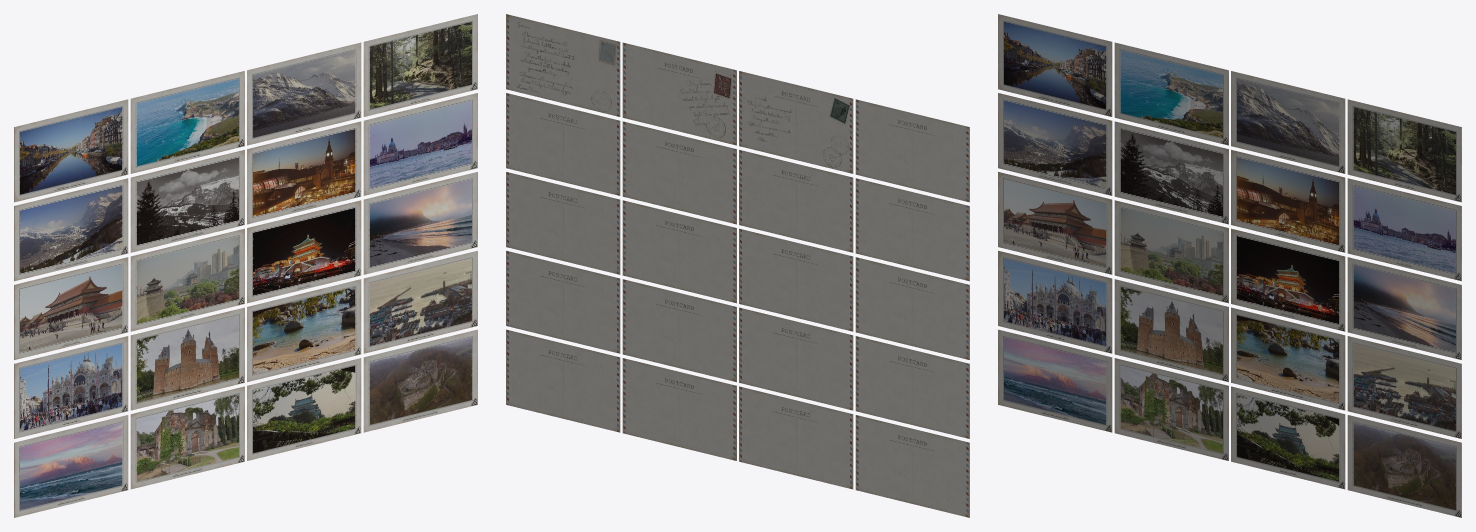
The model's file is postcard_set_01.glb.
The picture shows the model from 3 angles, left to right: view 1: azimuth 30°, elevation 25°; view 2: azimuth 150°, elevation 25°; view 3: azimuth 330°, elevation 25°; orthographic projection.
Visible parts, largest first — view 1: postcard_01, postcard_03, postcard_05, postcard_16, postcard_18, postcard_20, postcard_07, postcard_10, postcard_11, postcard_14, postcard_08, postcard_09 (+8 smaller); view 2: postcard_01, postcard_03, postcard_05, postcard_16, postcard_18, postcard_20, postcard_07, postcard_10, postcard_11, postcard_14, postcard_08, postcard_09 (+8 smaller); view 3: postcard_02, postcard_04, postcard_08, postcard_13, postcard_17, postcard_19, postcard_06, postcard_10, postcard_11, postcard_15, postcard_05, postcard_09 (+8 smaller).
Boxes of the visible parts, left/top/right/bottom form: postcard_01: left=14, top=99, right=128, bottom=202; postcard_03: left=247, top=42, right=361, bottom=145; postcard_05: left=14, top=178, right=128, bottom=281; postcard_16: left=363, top=250, right=477, bottom=353; postcard_18: left=130, top=386, right=244, bottom=489; postcard_20: left=363, top=329, right=477, bottom=432; postcard_07: left=247, top=121, right=361, bottom=224; postcard_10: left=130, top=228, right=244, bottom=331; postcard_11: left=247, top=200, right=361, bottom=303; postcard_14: left=130, top=307, right=244, bottom=410; postcard_08: left=363, top=93, right=477, bottom=195; postcard_09: left=14, top=257, right=128, bottom=359; postcard_01: left=855, top=99, right=969, bottom=202; postcard_03: left=622, top=42, right=736, bottom=145; postcard_05: left=855, top=178, right=969, bottom=281; postcard_16: left=506, top=250, right=620, bottom=353; postcard_18: left=739, top=386, right=853, bottom=489; postcard_20: left=506, top=329, right=620, bottom=432; postcard_07: left=622, top=121, right=736, bottom=224; postcard_10: left=739, top=228, right=853, bottom=331; postcard_11: left=622, top=200, right=736, bottom=303; postcard_14: left=739, top=307, right=853, bottom=410; postcard_08: left=506, top=93, right=620, bottom=195; postcard_09: left=855, top=257, right=969, bottom=359; postcard_02: left=1114, top=42, right=1228, bottom=145; postcard_04: left=1347, top=99, right=1461, bottom=202; postcard_08: left=1347, top=178, right=1461, bottom=281; postcard_13: left=998, top=250, right=1112, bottom=353; postcard_17: left=998, top=329, right=1112, bottom=432; postcard_19: left=1231, top=386, right=1345, bottom=489; postcard_06: left=1114, top=121, right=1228, bottom=224; postcard_10: left=1114, top=200, right=1228, bottom=303; postcard_11: left=1231, top=228, right=1345, bottom=331; postcard_15: left=1231, top=307, right=1345, bottom=410; postcard_05: left=998, top=93, right=1112, bottom=195; postcard_09: left=998, top=172, right=1112, bottom=274.
Size of the model in its own units: 0.6767 by 0.545 by 0.000136.
1 material, 1 textured.
